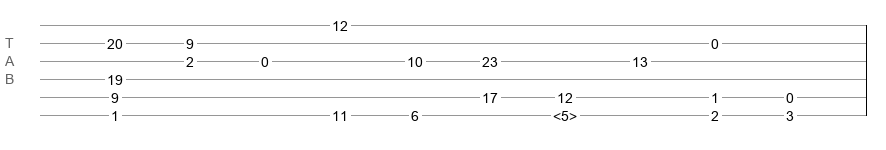0: (261, 54, 269, 64), (711, 36, 719, 46), (786, 90, 794, 100)
1: (111, 108, 119, 118), (711, 90, 719, 100)
10: (407, 54, 423, 64)
11: (332, 108, 348, 118)
12: (332, 18, 348, 28), (557, 90, 573, 100)
13: (632, 54, 648, 64)
17: (482, 90, 498, 100)
19: (107, 72, 123, 82)
2: (186, 54, 194, 64), (711, 108, 719, 118)
20: (107, 36, 123, 46)
23: (482, 54, 498, 64)
3: (786, 108, 794, 118)
6: (411, 108, 419, 118)
9: (111, 90, 119, 100), (186, 36, 194, 46)
harmonic: (553, 108, 577, 118)
